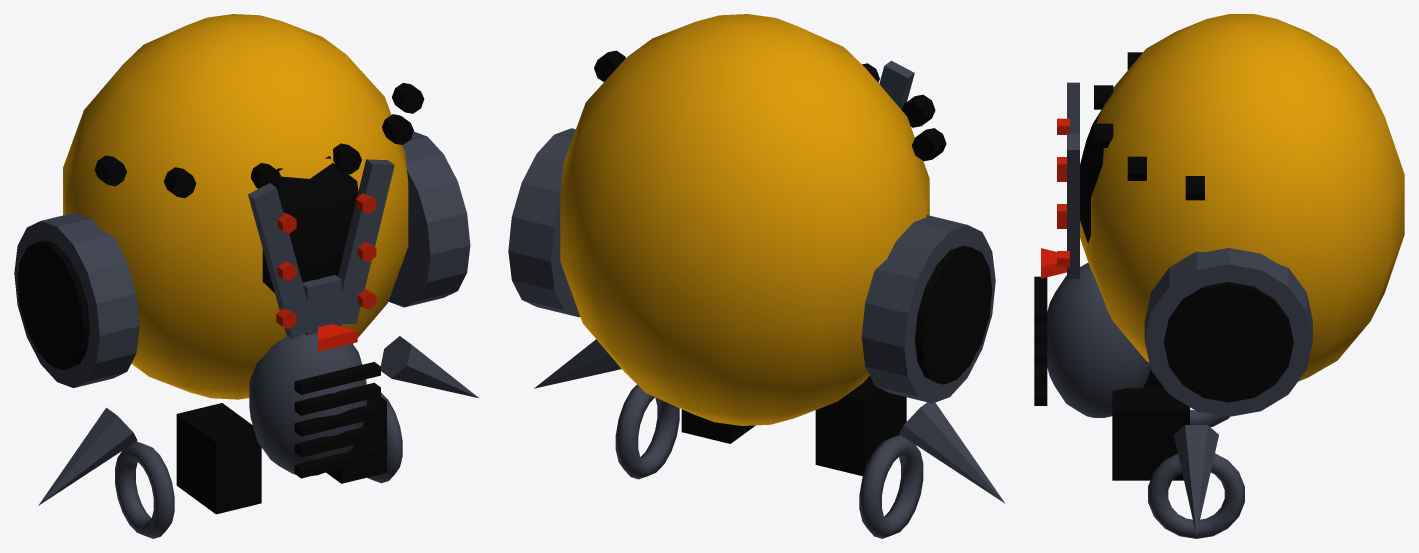
File: Enemy_wasp.fbx
3 renders of one model, left to right at view 1: azimuth 30°, elevation 25°; view 2: azimuth 150°, elevation 25°; view 3: azimuth 270°, elevation 25°, orthographic. The views are drawn at different scales.
Visible parts, largest first — view 1: Enemy_wasp; view 2: Enemy_wasp; view 3: Enemy_wasp.
Part boxes in pixels (x1,y1,x2,y2): Enemy_wasp: (14, 14, 478, 538); Enemy_wasp: (508, 14, 1005, 538); Enemy_wasp: (1034, 14, 1404, 538).
Bounding box in the file's own units: 0.7749 × 0.776 × 0.5711.
